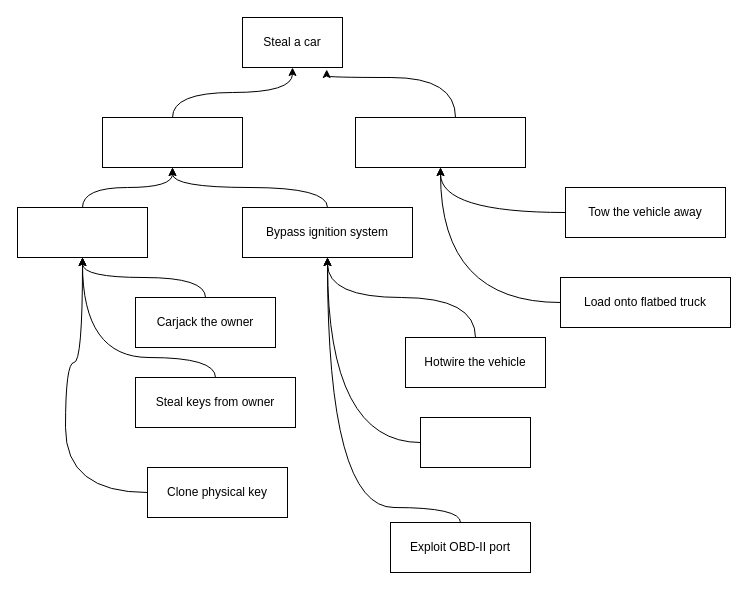
The diagram is 748 pixels wide and 590 high, and some of its shapes have lost their labels. The shapes that lost their labels are listed below. From the top down, each one's centre as x and y in pixels, then its label:
At [172,142]: "Drive the car away".
At [440,142]: "Move car without driving".
At [82,232]: "Obtain the keys".
At [475,442]: "Relay attack".
